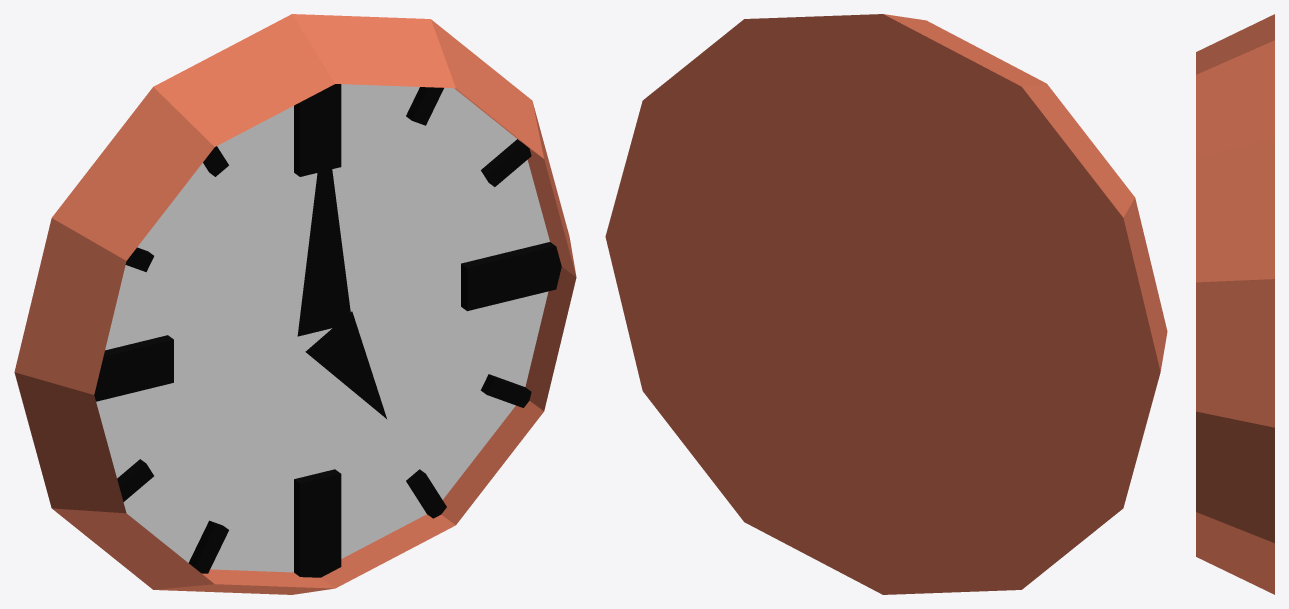
The model's file is Horloge.fbx.
The picture shows the model from 3 angles, left to right: view 1: azimuth 30°, elevation 25°; view 2: azimuth 150°, elevation 25°; view 3: azimuth 270°, elevation 25°; orthographic projection. The views are drawn at different scales.
Parts seen in each view (by area): view 1: Horloge; view 2: Horloge; view 3: Horloge.
Part boxes in pixels (x1,y1,x2,y2): Horloge: (14, 14, 576, 594); Horloge: (605, 14, 1167, 594); Horloge: (1196, 14, 1274, 594).
Bounding box in the file's own units: 2033 × 2033 × 275.
